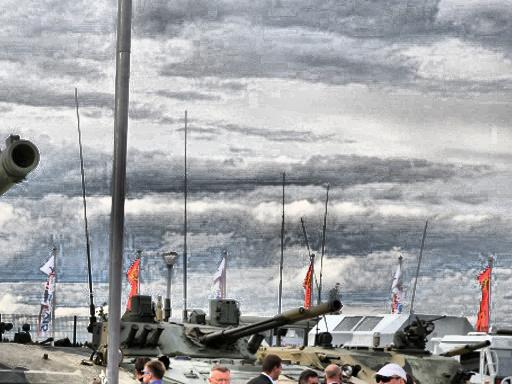tanks: (121, 297, 337, 384), (345, 317, 473, 384), (1, 349, 97, 384), (1, 137, 39, 196), (459, 343, 487, 353)
